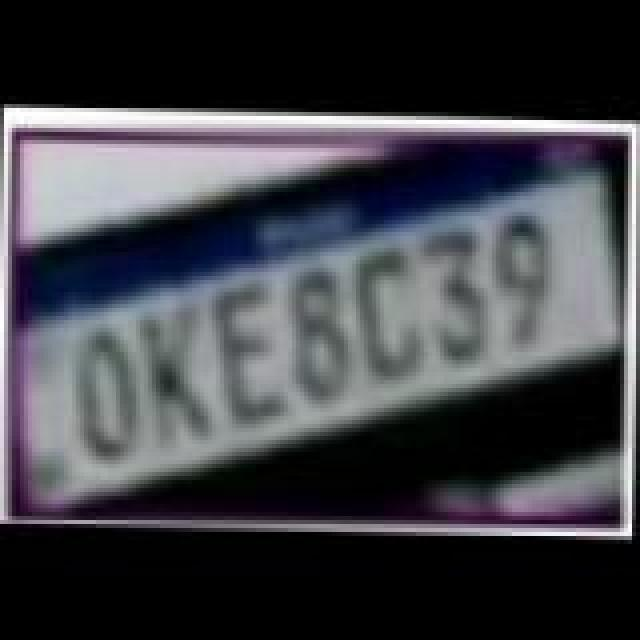3: (420, 226, 496, 366)
8: (282, 264, 362, 404)
9: (486, 212, 558, 348)
C: (352, 244, 436, 380)
E: (206, 282, 294, 422)
K: (136, 308, 220, 444)
O: (70, 328, 146, 464)
